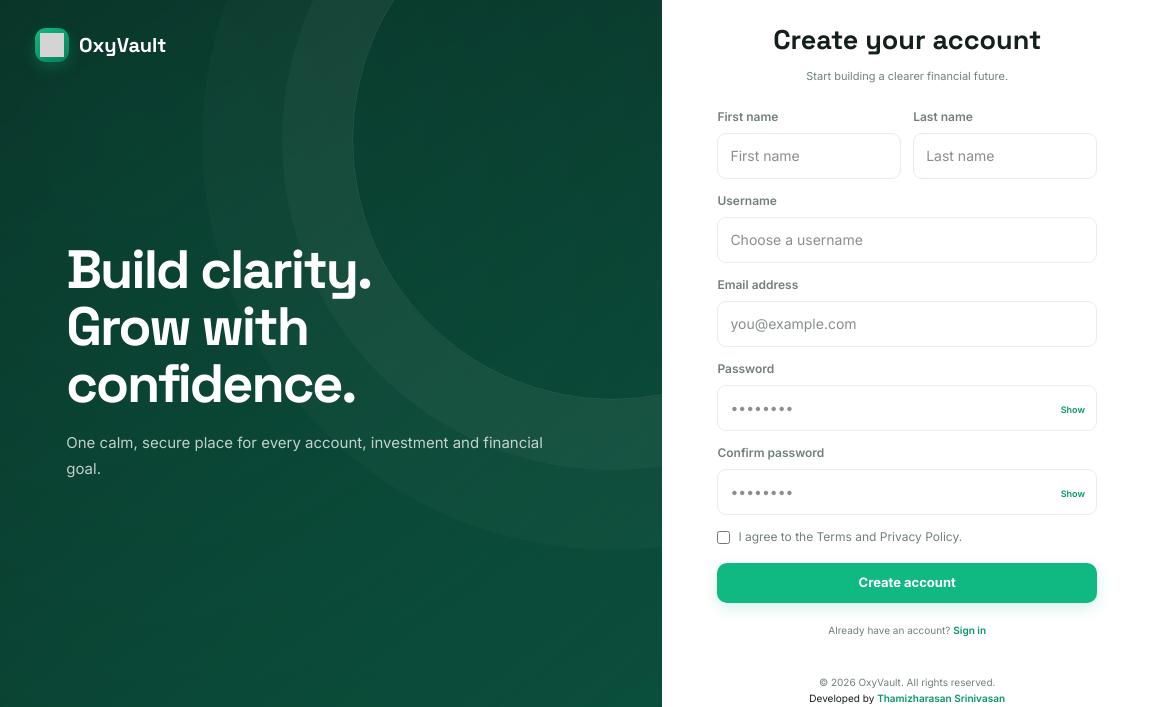
Test: RegisterPage › shows an error for every empty required field
This screenshot has width=1152, height=707.
Click the button "Create account": (907, 583) [717, 563, 1097, 602]
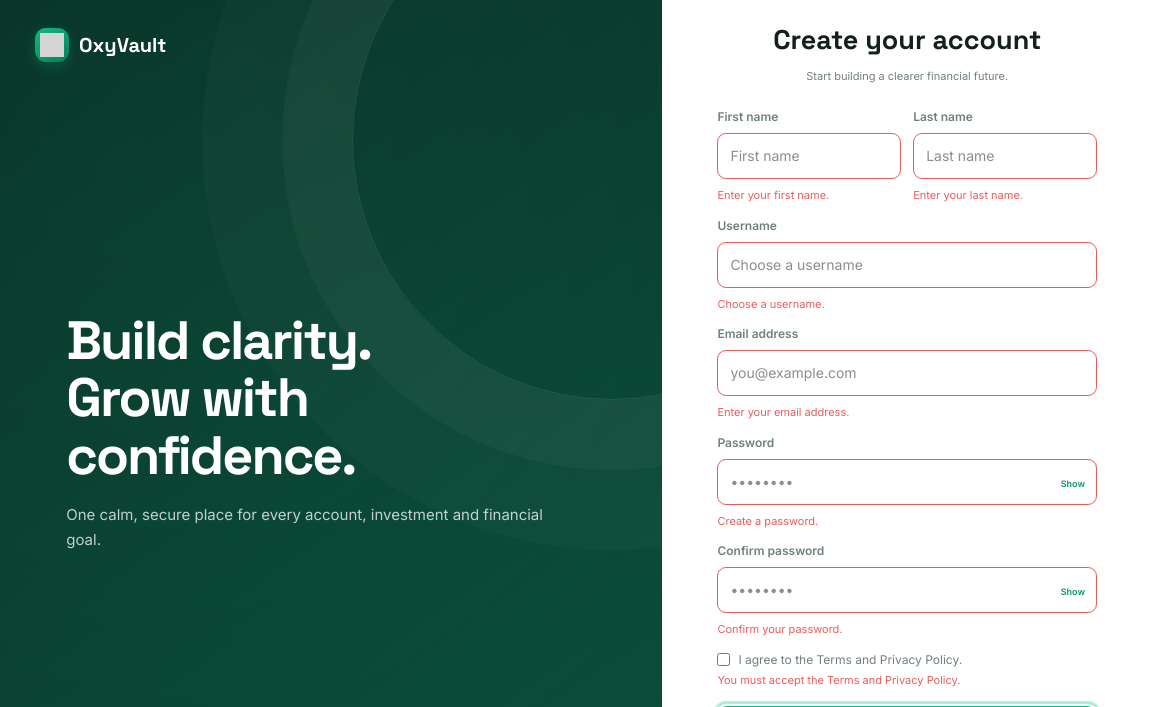
Expected: the text "Enter your first name." is shown, [717, 188, 829, 202]
Expected: the text "Enter your last name." is shown, [913, 188, 1023, 202]
Expected: the text "Choose a username." is shown, [717, 296, 825, 310]
